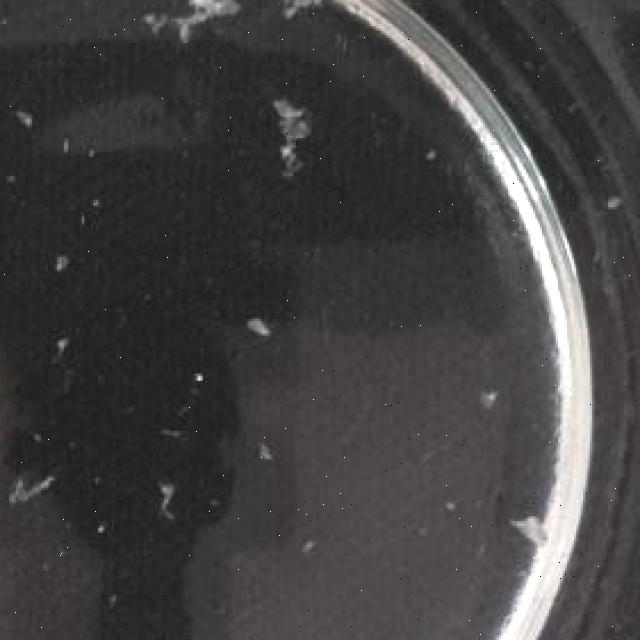Microplastic: (155, 0, 241, 45), (0, 464, 64, 521), (499, 502, 556, 554), (282, 95, 316, 171), (246, 300, 285, 354), (146, 476, 184, 514), (292, 0, 342, 17)
